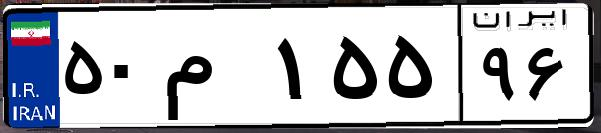0: (110, 28, 158, 98)
1: (270, 28, 330, 110)
5: (385, 28, 445, 110), (330, 28, 385, 110), (57, 26, 110, 100)
6: (525, 38, 570, 115)
9: (475, 38, 525, 113)
م: (158, 20, 270, 120)
